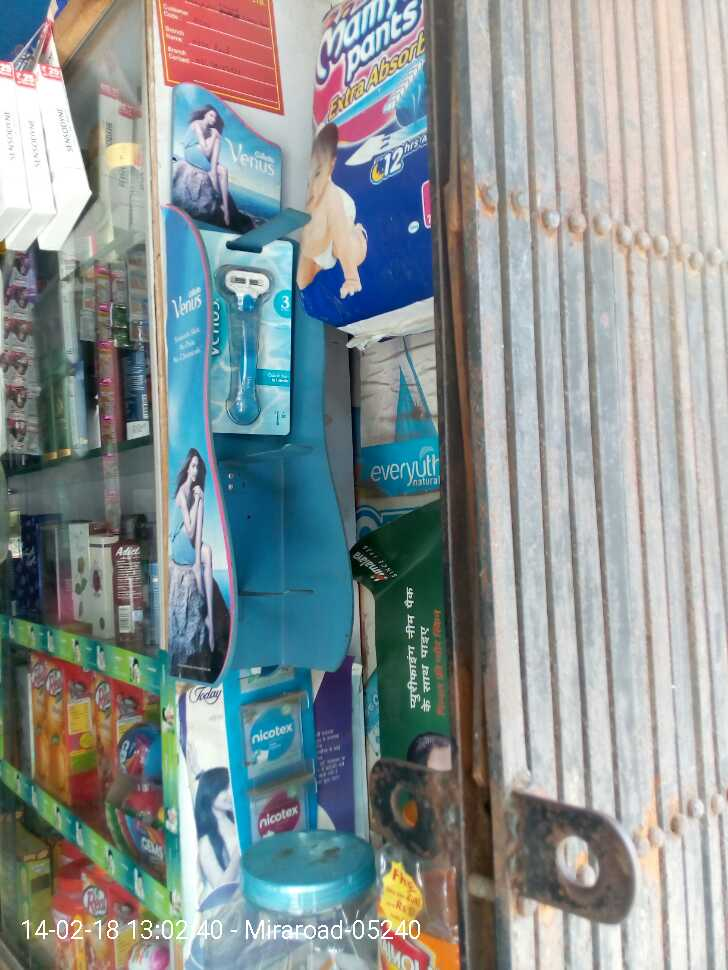beauty: (204, 228, 296, 437)
